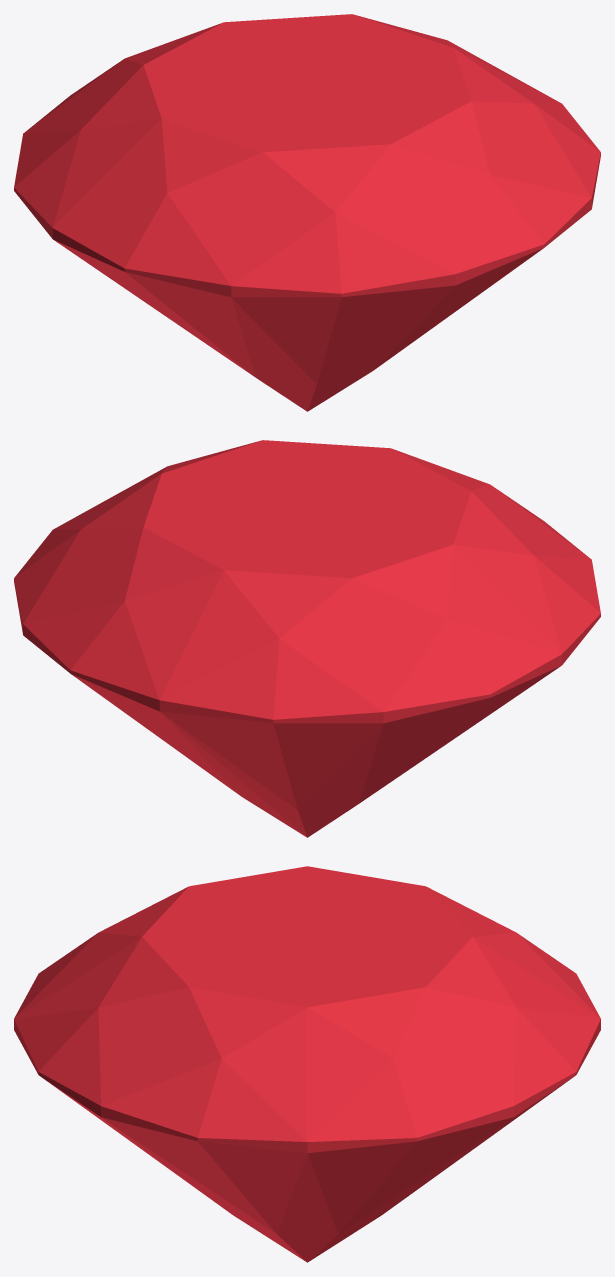
The model's file is Ruby_2.fbx.
3 views of the same model, one above another, from view 1: azimuth 30°, elevation 25°; view 2: azimuth 150°, elevation 25°; view 3: azimuth 270°, elevation 25° (orthographic).
Visible parts, largest first — view 1: Diamond; view 2: Diamond; view 3: Diamond.
Part boxes in pixels (box(x1,y1,x2,y2)): Diamond: box(14, 14, 600, 411); Diamond: box(14, 440, 600, 837); Diamond: box(14, 866, 600, 1262).
Size of the model in its own units: 1.51 by 0.9319 by 1.52.
1 material, 1 textured.
